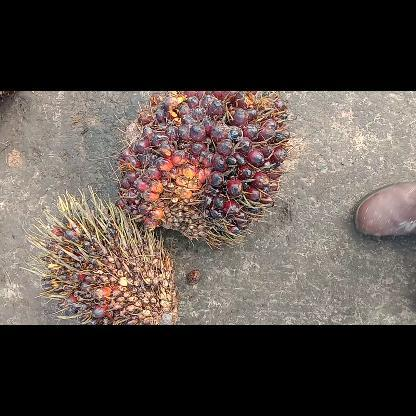Kurang masak: (110, 91, 292, 249)
TBS abnormal: (21, 186, 180, 324)
